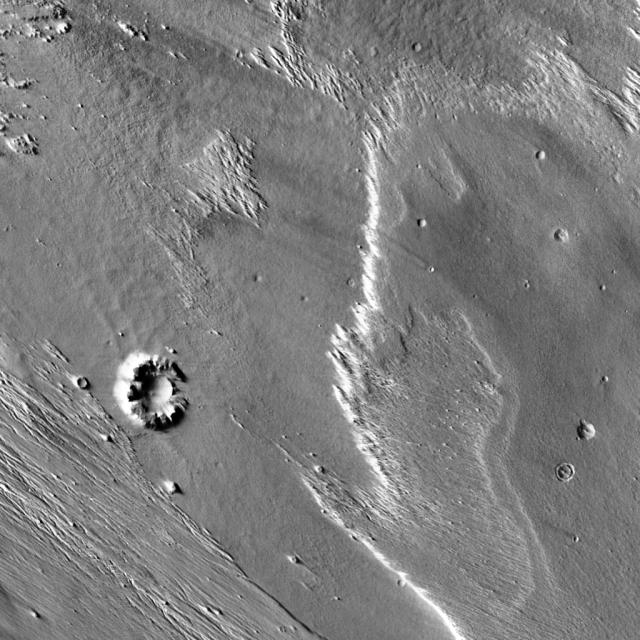crater: (139, 377, 179, 417), (560, 466, 582, 487), (584, 427, 602, 445), (562, 234, 576, 246), (419, 46, 428, 55), (544, 156, 553, 165), (423, 222, 432, 230), (85, 383, 93, 391), (396, 574, 403, 582)
